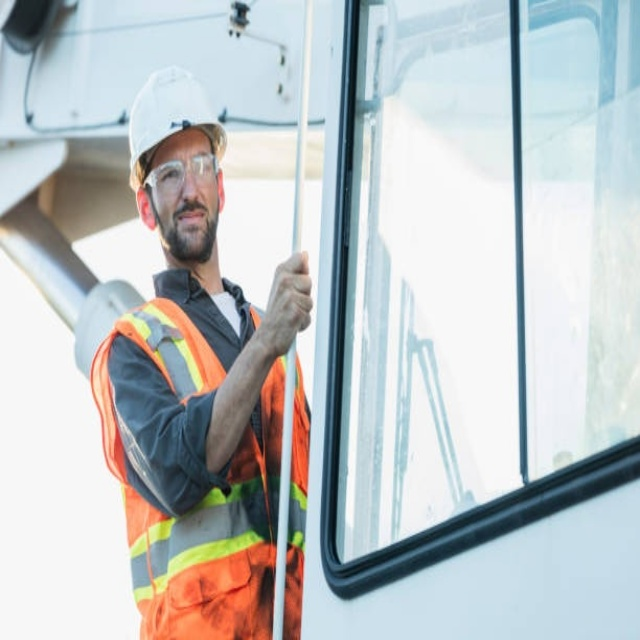Gafas: (145, 153, 221, 195)
Sin_guantes: (260, 247, 315, 356)
Sin_mascara: (169, 202, 211, 246)
